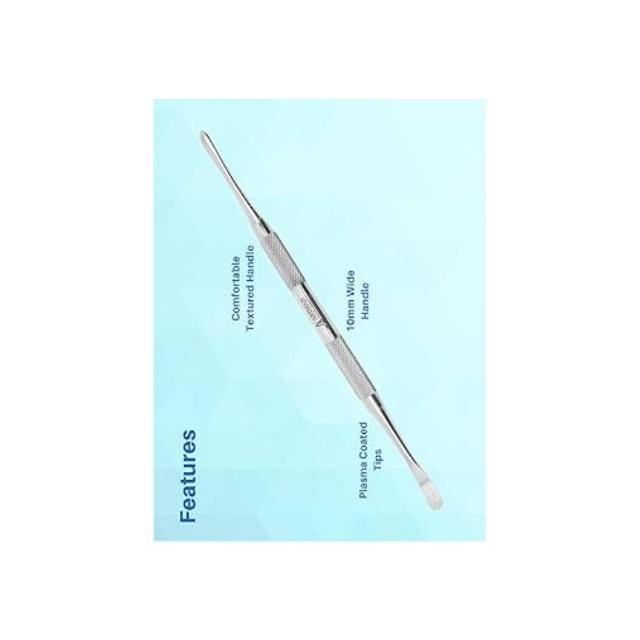elevador: (199, 131, 445, 512)
